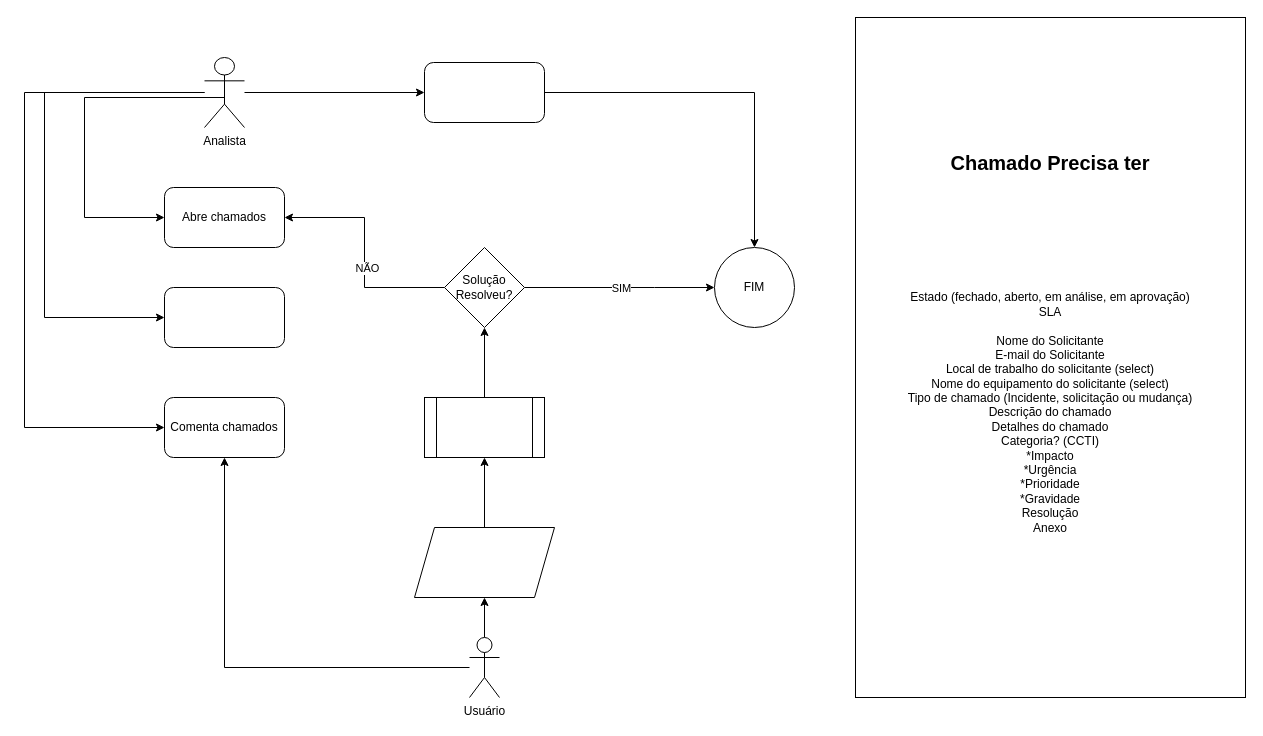
Some shapes in this 1263 by 736 pixel diagram are drawn without their labels. Here are the shapes that lost their labels. From the top down, the centre of each, then its label:
point (484, 92): Resolve chamados
point (224, 317): Direciona Chamados
point (484, 427): IA Analisa e propõe solução
point (484, 562): Informa problema/solicitação
